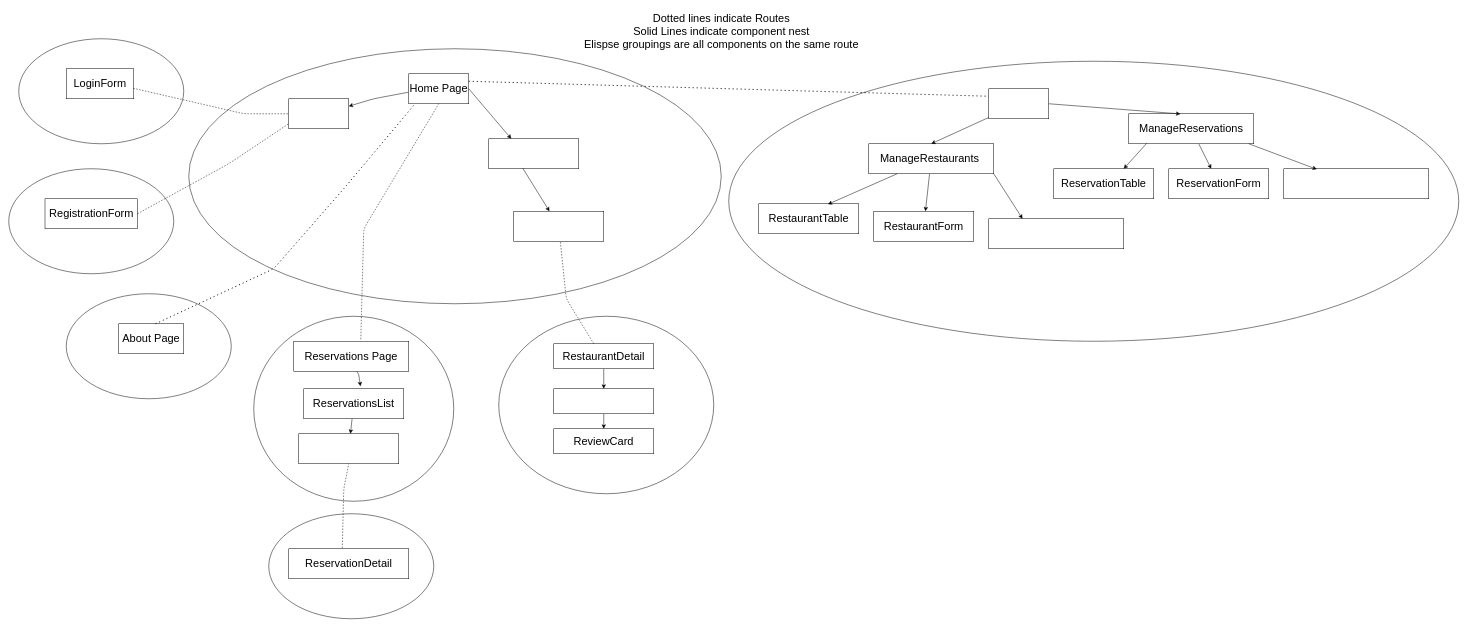
This 1468x628 diagram has some shape labels left out. The shapes that lost their labels are listed below. From the top down, each one's box as (x1, y1, x2, y2) in pixels, then its label:
(288, 98, 349, 129): Navbar
(988, 88, 1049, 119): Admin Dashboard
(488, 138, 579, 169): RestaurantsList
(1283, 168, 1429, 199): CancelReservationButtom
(513, 211, 604, 241): RestaurantCard
(988, 218, 1124, 249): DeleteRestaurantButtom
(553, 388, 654, 414): ReviewsList
(298, 433, 399, 464): ReservationsCard
